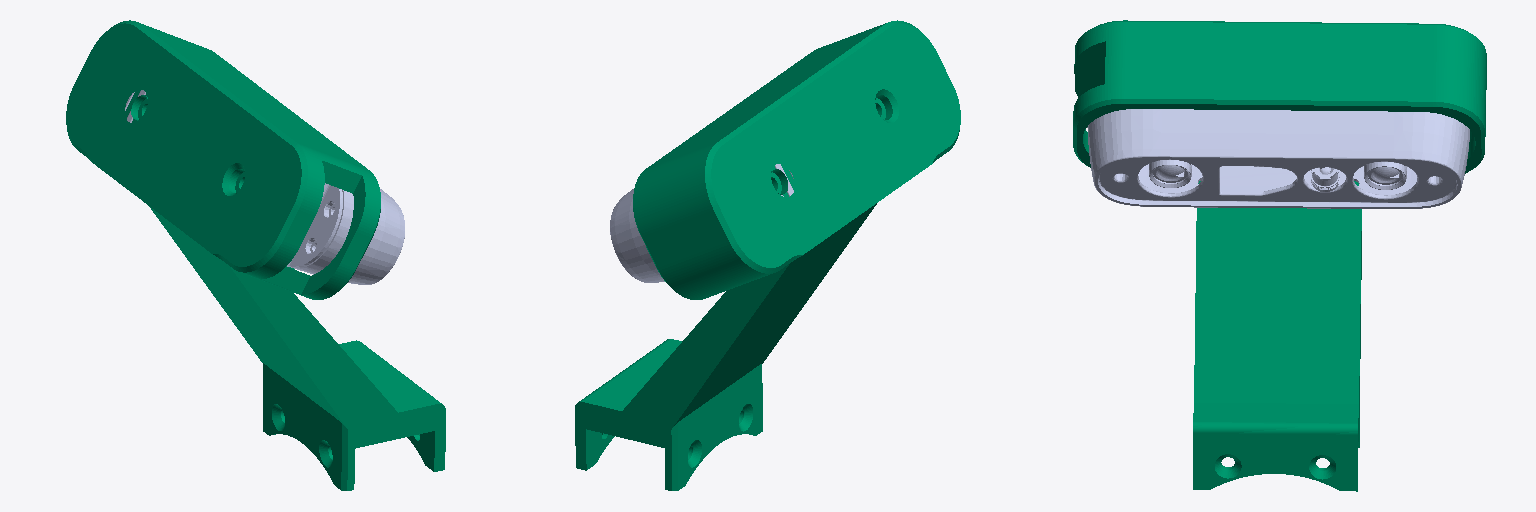
The robot description file, URDF, robot "rebot_wrist_gemini2":
<?xml version="1.0"?>
<!-- Generated by scripts/build-wrist-camera-urdfs.py; see ../README.md. -->
<robot name="rebot_wrist_gemini2">
  <link name="gripper_end" />
  <link name="camera_link">
    <inertial>
      <origin rpy="0 0 0" xyz="0.0027714370634978 -9.29434319373592E-06 0.0128014057830239" />
      <mass value="0.0186201988654731" />
      <inertia ixx="1.38952652762223E-05" ixy="-4.88105621547421E-09" ixz="1.98670223779875E-08" iyy="1.7072236178685E-06" iyz="-8.49860443053716E-09" izz="1.31795237727551E-05" />
    </inertial>
    <visual>
      <origin rpy="0 0 0" xyz="-0.01491 -0.025 -0.0125" />
      <geometry>
        <mesh filename="../meshes/gemini2/base_link.STL" />
      </geometry>
      <material name="">
        <color rgba="0.792156862745098 0.819607843137255 0.933333333333333 1" />
      </material>
    </visual>
    <collision>
      <origin rpy="0 0 0" xyz="-0.01491 -0.025 -0.0125" />
      <geometry>
        <mesh filename="../meshes/gemini2/base_link.STL" />
      </geometry>
    </collision>
  </link>
  <link name="camera_botter_screw_frame">
    <inertial>
      <origin rpy="0 0 0" xyz="0.00255175353418556 -0.00123907270798541 0.0118889783016768" />
      <mass value="0.00564464822744556" />
      <inertia ixx="3.07688942133184E-06" ixy="-1.84968755859098E-08" ixz="-9.2787127214088E-09" iyy="2.27625032346061E-07" iyz="1.65176768024159E-08" izz="2.93984854119768E-06" />
    </inertial>
    <visual>
      <origin rpy="0 0 0" xyz="0 0 0" />
      <geometry>
        <mesh filename="../meshes/gemini2/camera_botter_screw_frame.STL" />
      </geometry>
      <material name="">
        <color rgba="0.792156862745098 0.819607843137255 0.933333333333333 1" />
      </material>
    </visual>
    <collision>
      <origin rpy="0 0 0" xyz="0 0 0" />
      <geometry>
        <mesh filename="../meshes/gemini2/camera_botter_screw_frame.STL" />
      </geometry>
    </collision>
  </link>
  <joint name="camera_botter_screw_joint" type="fixed">
    <origin rpy="0 0 0" xyz="-0.01491 -0.025 -0.0125" />
    <parent link="camera_link" />
    <child link="camera_botter_screw_frame" />
    <axis xyz="0 0 0" />
  </joint>
  <link name="camera_right_ir_frame">
    <inertial>
      <origin rpy="0 0 0" xyz="-0.000620201436687004 -1.61358465547434E-08 -1.50984520398332E-07" />
      <mass value="0.000453168343720438" />
      <inertia ixx="4.34107789199216E-09" ixy="-3.70099015891851E-13" ixz="-1.46784711283119E-13" iyy="4.84012228066652E-09" iyz="2.0076254107311E-14" izz="4.84044599033091E-09" />
    </inertial>
    <visual>
      <origin rpy="0 0 0" xyz="0 0 0" />
      <geometry>
        <mesh filename="../meshes/gemini2/camera_infra1_frame.STL" />
      </geometry>
      <material name="">
        <color rgba="0.792156862745098 0.819607843137255 0.933333333333333 1" />
      </material>
    </visual>
    <collision>
      <origin rpy="0 0 0" xyz="0 0 0" />
      <geometry>
        <mesh filename="../meshes/gemini2/camera_infra1_frame.STL" />
      </geometry>
    </collision>
  </link>
  <joint name="camera_right_ir_joint" type="fixed">
    <origin rpy="0 0 0" xyz="0 -0.05000000074505806 0" />
    <parent link="camera_depth_frame" />
    <child link="camera_right_ir_frame" />
    <axis xyz="0 0 0" />
  </joint>
  <link name="camera_right_ir_optical_frame">
    <inertial>
      <origin rpy="0 0 0" xyz="1.61358465547434E-08 1.50984520398324E-07 -0.000620201436687004" />
      <mass value="0.000453168343720438" />
      <inertia ixx="4.84012228066652E-09" ixy="2.00762541073067E-14" ixz="3.70099015891915E-13" iyy="4.84044599033091E-09" iyz="1.46784711283141E-13" izz="4.34107789199216E-09" />
    </inertial>
    <visual>
      <origin rpy="0 0 0" xyz="0 0 0" />
      <geometry>
        <mesh filename="../meshes/gemini2/camera_infra1_optical_frame.STL" />
      </geometry>
      <material name="">
        <color rgba="0.792156862745098 0.819607843137255 0.933333333333333 1" />
      </material>
    </visual>
    <collision>
      <origin rpy="0 0 0" xyz="0 0 0" />
      <geometry>
        <mesh filename="../meshes/gemini2/camera_infra1_optical_frame.STL" />
      </geometry>
    </collision>
  </link>
  <joint name="camera_right_ir_optical_joint" type="fixed">
    <origin rpy="-1.5707963267949 0 -1.5707963267949" xyz="0 0 0" />
    <parent link="camera_right_ir_frame" />
    <child link="camera_right_ir_optical_frame" />
    <axis xyz="0 0 0" />
  </joint>
  <link name="camera_color_frame">
    <inertial>
      <origin rpy="0 0 0" xyz="2.29364384785394E-07 -2.11520958501546E-07 -0.00105779474323097" />
      <mass value="0.000139779411914196" />
      <inertia ixx="6.11273726117097E-10" ixy="3.95051289663905E-14" ixz="1.55845266007242E-13" iyy="6.11076547268852E-10" iyz="2.25440284353371E-14" izz="6.69129408711142E-10" />
    </inertial>
    <visual>
      <origin rpy="0 0 0" xyz="0 0 0" />
      <geometry>
        <mesh filename="../meshes/gemini2/camera_color_frame.STL" />
      </geometry>
      <material name="">
        <color rgba="0.792156862745098 0.819607843137255 0.933333333333333 1" />
      </material>
    </visual>
    <collision>
      <origin rpy="0 0 0" xyz="0 0 0" />
      <geometry>
        <mesh filename="../meshes/gemini2/camera_color_frame.STL" />
      </geometry>
    </collision>
  </link>
  <joint name="camera_color_joint" type="fixed">
    <origin rpy="0 0 0" xyz="0.0019099999917671084 -0.01400499977171421 4.999999873689376e-06" />
    <parent link="camera_depth_frame" />
    <child link="camera_color_frame" />
    <axis xyz="0 0 0" />
  </joint>
  <link name="camera_color_optical_frame">
    <inertial>
      <origin rpy="0 0 0" xyz="2.29364384785394E-07 -2.11520958501541E-07 -0.00105779474323097" />
      <mass value="0.000139779411914196" />
      <inertia ixx="6.11273726117097E-10" ixy="3.95051289663901E-14" ixz="1.55845266007242E-13" iyy="6.11076547268852E-10" iyz="2.25440284353391E-14" izz="6.69129408711142E-10" />
    </inertial>
    <visual>
      <origin rpy="0 0 0" xyz="0 0 0" />
      <geometry>
        <mesh filename="../meshes/gemini2/camera_color_optical_frame.STL" />
      </geometry>
      <material name="">
        <color rgba="0.792156862745098 0.819607843137255 0.933333333333333 1" />
      </material>
    </visual>
    <collision>
      <origin rpy="0 0 0" xyz="0 0 0" />
      <geometry>
        <mesh filename="../meshes/gemini2/camera_color_optical_frame.STL" />
      </geometry>
    </collision>
  </link>
  <joint name="camera_color_optical_joint" type="fixed">
    <origin rpy="-1.5707963267949 0 -1.5707963267949" xyz="0 0 0" />
    <parent link="camera_color_frame" />
    <child link="camera_color_optical_frame" />
    <axis xyz="0 0 0" />
  </joint>
  <link name="camera_left_ir_frame">
    <inertial>
      <origin rpy="0 0 0" xyz="-0.000620201436687001 -1.6135846551274E-08 -1.50984520410662E-07" />
      <mass value="0.000453168343720439" />
      <inertia ixx="4.34107789199216E-09" ixy="-3.70099015888916E-13" ixz="-1.46784711288897E-13" iyy="4.84012228066651E-09" iyz="2.0076254105875E-14" izz="4.8404459903309E-09" />
    </inertial>
    <visual>
      <origin rpy="0 0 0" xyz="0 0 0" />
      <geometry>
        <mesh filename="../meshes/gemini2/camera_infra2_frame.STL" />
      </geometry>
      <material name="">
        <color rgba="0.792156862745098 0.819607843137255 0.933333333333333 1" />
      </material>
    </visual>
    <collision>
      <origin rpy="0 0 0" xyz="0 0 0" />
      <geometry>
        <mesh filename="../meshes/gemini2/camera_infra2_frame.STL" />
      </geometry>
    </collision>
  </link>
  <joint name="camera_left_ir_joint" type="fixed">
    <origin rpy="0 0 0" xyz="0 0 0" />
    <parent link="camera_link" />
    <child link="camera_left_ir_frame" />
    <axis xyz="0 0 0" />
  </joint>
  <link name="camera_left_ir_optical_frame">
    <inertial>
      <origin rpy="0 0 0" xyz="1.6135846551274E-08 1.50984520410652E-07 -0.000620201436687001" />
      <mass value="0.000453168343720439" />
      <inertia ixx="4.84012228066652E-09" ixy="2.00762541058687E-14" ixz="3.70099015888909E-13" iyy="4.8404459903309E-09" iyz="1.46784711288896E-13" izz="4.34107789199216E-09" />
    </inertial>
    <visual>
      <origin rpy="0 0 0" xyz="0 0 0" />
      <geometry>
        <mesh filename="../meshes/gemini2/camera_infra2_optical_frame.STL" />
      </geometry>
      <material name="">
        <color rgba="0.792156862745098 0.819607843137255 0.933333333333333 1" />
      </material>
    </visual>
    <collision>
      <origin rpy="0 0 0" xyz="0 0 0" />
      <geometry>
        <mesh filename="../meshes/gemini2/camera_infra2_optical_frame.STL" />
      </geometry>
    </collision>
  </link>
  <joint name="camera_left_ir_optical_joint" type="fixed">
    <origin rpy="-1.5707963267949 0 -1.5707963267949" xyz="0 0 0" />
    <parent link="camera_left_ir_frame" />
    <child link="camera_left_ir_optical_frame" />
    <axis xyz="0 0 0" />
  </joint>
  <link name="camera_depth_frame">
    <inertial>
      <origin rpy="0 0 0" xyz="-0.000620201436687001 -1.6135846551274E-08 -1.50984520410661E-07" />
      <mass value="0.000453168343720439" />
      <inertia ixx="4.34107789199216E-09" ixy="-3.70099015888929E-13" ixz="-1.46784711288886E-13" iyy="4.84012228066651E-09" iyz="2.00762541058859E-14" izz="4.8404459903309E-09" />
    </inertial>
    <visual>
      <origin rpy="0 0 0" xyz="0 0 0" />
      <geometry>
        <mesh filename="../meshes/gemini2/camera_depth_frame.STL" />
      </geometry>
      <material name="">
        <color rgba="0.792156862745098 0.819607843137255 0.933333333333333 1" />
      </material>
    </visual>
    <collision>
      <origin rpy="0 0 0" xyz="0 0 0" />
      <geometry>
        <mesh filename="../meshes/gemini2/camera_depth_frame.STL" />
      </geometry>
    </collision>
  </link>
  <joint name="camera_depth_joint" type="fixed">
    <origin rpy="0 0 0" xyz="0 0 0" />
    <parent link="camera_link" />
    <child link="camera_depth_frame" />
    <axis xyz="0 0 0" />
  </joint>

  # Mount origin coincides with gripper_end / gripper_end.STL.
# Runtime: bringup_with_camera.launch.py loads this xacro into robot_state_publisher
# so RViz shows the camera; Orbbec driver still provides image topics + optical TF.
# If you only use wrist_camera.launch.py (static TF), keep values in sync with
# config/wrist_extrinsics.yaml.
  <link name="camera_mount_link">
    <visual>
      <origin rpy="0 0 0" xyz="0 0 0" />
      <geometry>
        <mesh filename="../meshes/mounts/D435_Gemini2_Mount.stl" scale="0.001 0.001 0.001" />
      </geometry>
    </visual>
  </link>
  <joint name="gripper_to_mount" type="fixed">
    <parent link="gripper_end" />
    <child link="camera_mount_link" />
    <origin rpy="1.5827 0.0024 1.5515" xyz="-0.1201 0.0003 0.0450" />
  </joint>
  <joint name="mount_to_camera" type="fixed">
    <parent link="camera_mount_link" />
    <child link="camera_link" />
    <origin rpy="0.0042 -1.0502 -1.5718" xyz="0.0249 0.0487 0.0090" />
  </joint>
</robot>

--- What the picture shows (computed from the rendered views, not written in the file) ---
Views: 3 orthographic renders of the robot side by side, from view 1: azimuth 30°, elevation 25°; view 2: azimuth 150°, elevation 25°; view 3: azimuth 270°, elevation 25°.
Model rebot_wrist_gemini2 with 11 links and 10 joints (10 fixed), rooted at gripper_end, posed all joints at 0.
Links seen in each view (by area): view 1: camera_mount_link, camera_link; view 2: camera_mount_link, camera_link; view 3: camera_mount_link, camera_link, camera_left_ir_optical_frame, camera_right_ir_frame, camera_color_frame.
Link boxes in pixels (x1=…): camera_mount_link: x1=66, y1=20, x2=445, y2=490; camera_link: x1=125, y1=90, x2=404, y2=284; camera_mount_link: x1=575, y1=20, x2=960, y2=490; camera_link: x1=610, y1=164, x2=793, y2=282; camera_mount_link: x1=1073, y1=20, x2=1486, y2=491; camera_link: x1=1087, y1=109, x2=1469, y2=208; camera_left_ir_optical_frame: x1=1364, y1=162, x2=1407, y2=189; camera_right_ir_frame: x1=1149, y1=160, x2=1192, y2=187; camera_color_frame: x1=1311, y1=167, x2=1339, y2=191.
Size in the robot's own frame: 0.0652 by 0.0962 by 0.0981 metres.
Meshes: 10 distinct files referenced, 7 mesh visuals loaded (7 binary STL); not drawn: 3 (reference not matched to a file when rendering).
